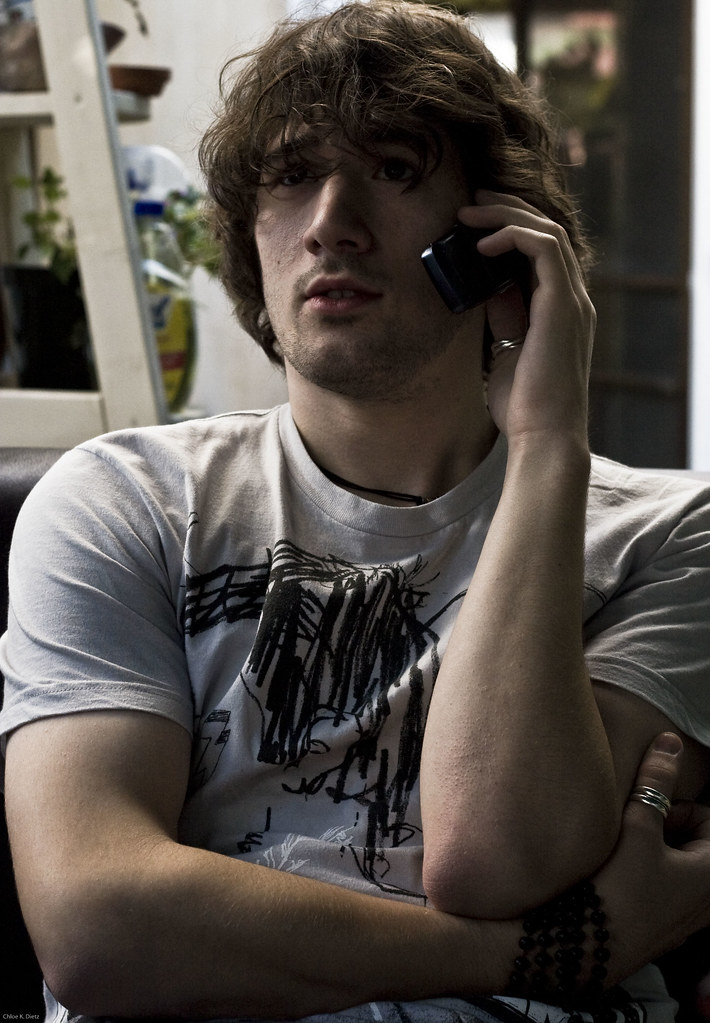phone: (425, 183, 548, 332)
talk: (253, 118, 606, 455)
